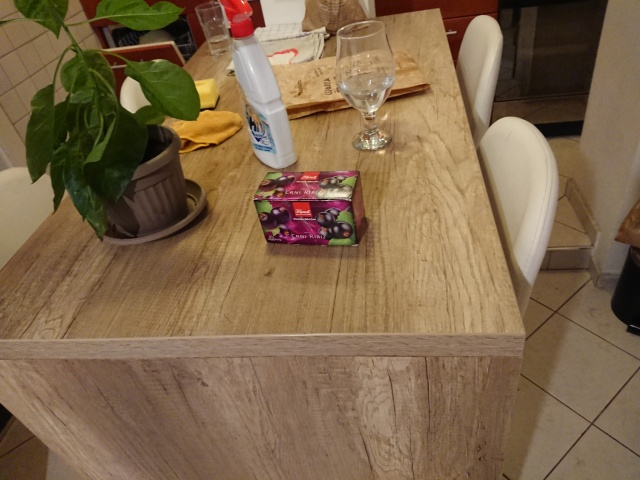Franck Black Currant Tea 60g: (251, 167, 368, 248)
